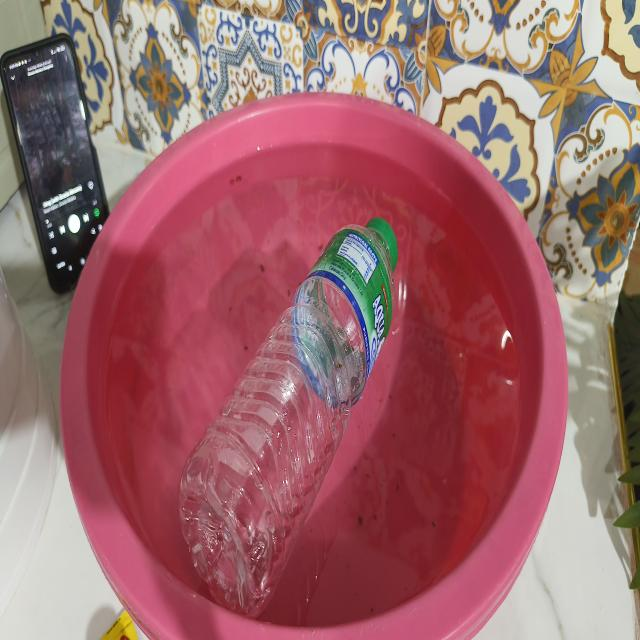Plastic Bottle: (166, 189, 422, 630)
